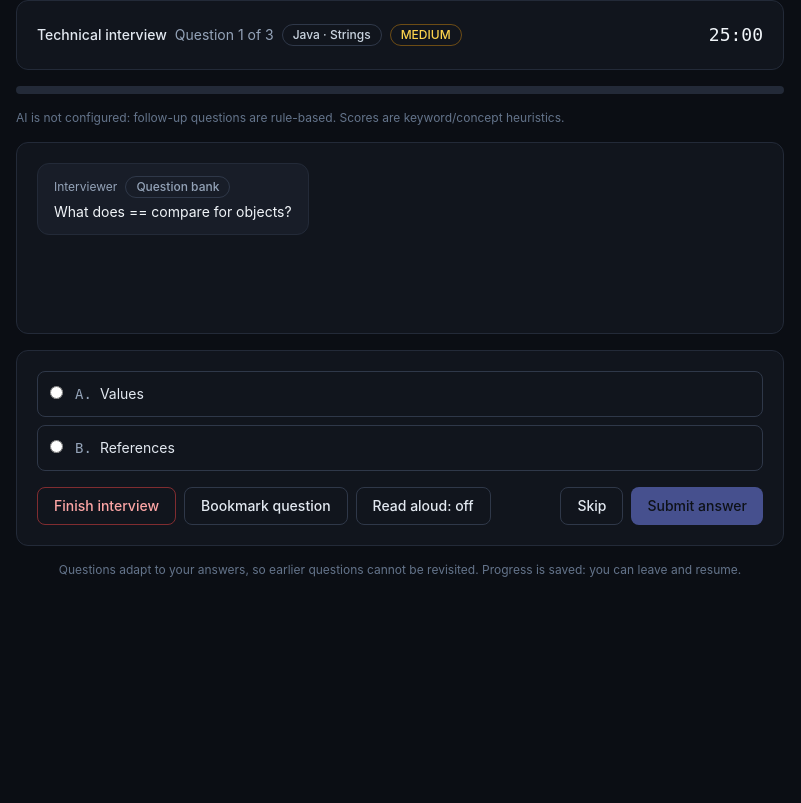
it: Workspace (conversational interview room) › submits an MCQ answer and moves on to the next adapted question
Expected: the button "Submit answer" is disabled, [632,487,763,525]
Click the radio button labelled "B.References" at x=56, y=446, box [50,440,63,453]
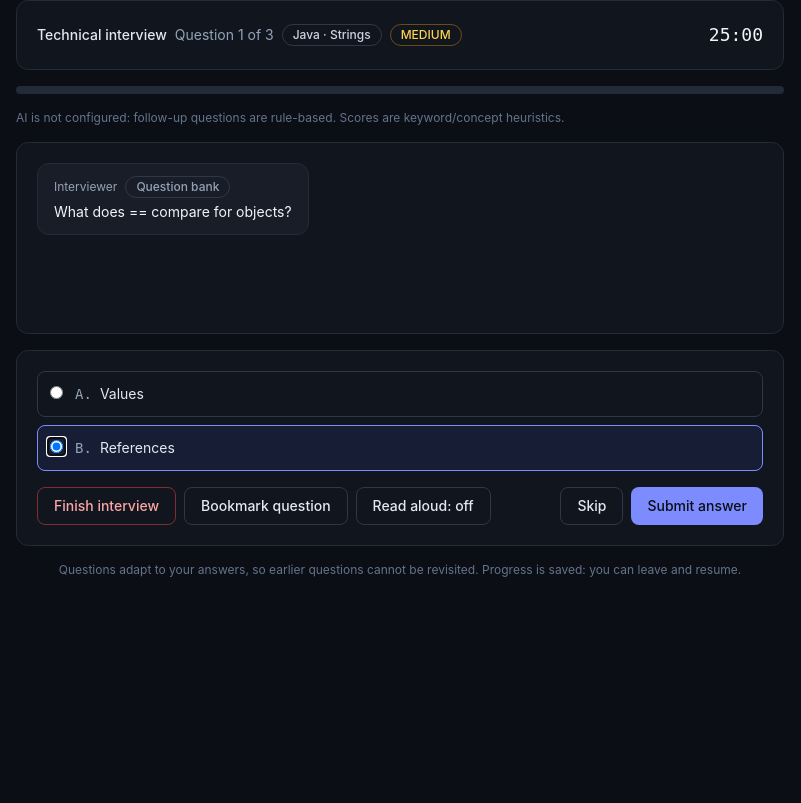
Click the button "Submit answer" at x=697, y=506, box [632,487,763,525]
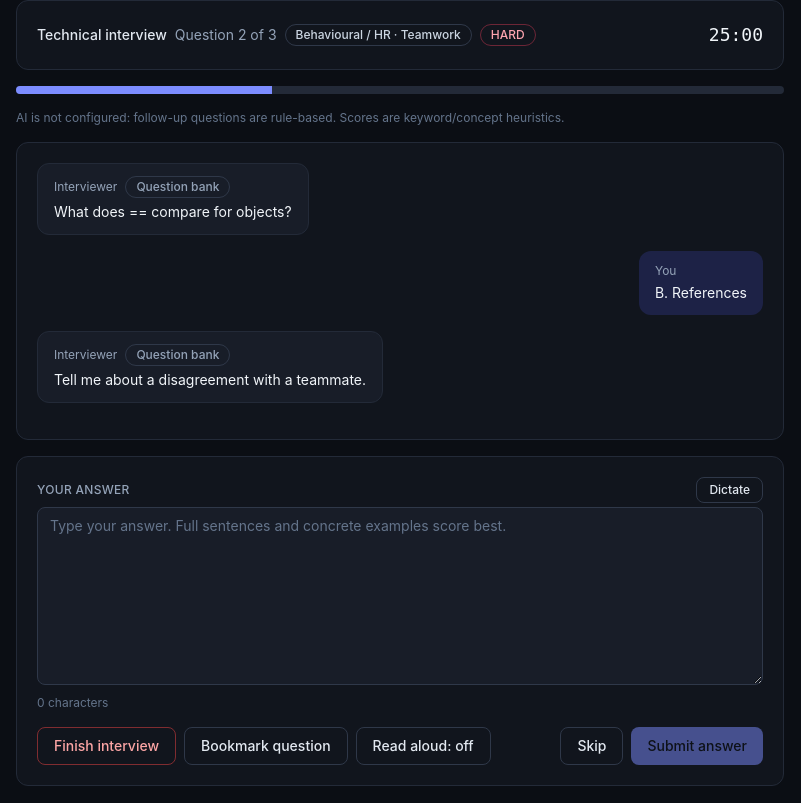
Result: the text "Tell me about a disagreement with a teammate." is shown at [54,370,366,390]
Result: the text "Question 2 of 3" is shown at [175,25,277,45]
Result: the text with test id "difficulty" reads "HARD" at [491,27,525,42]
